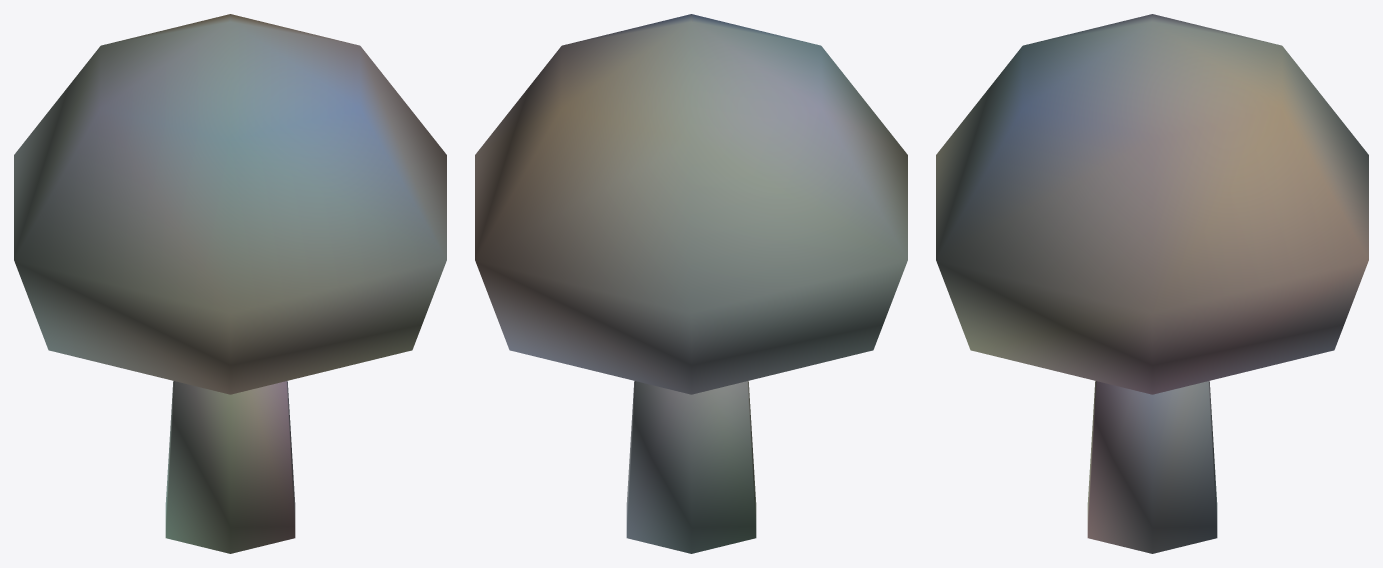
The model's file is Prop_Mushroom_1f.obj.
The picture shows the model from 3 angles, left to right: view 1: azimuth 30°, elevation 25°; view 2: azimuth 150°, elevation 25°; view 3: azimuth 270°, elevation 25°; orthographic projection.
Size of the model in its own units: 0.25 by 0.2762 by 0.2165.
